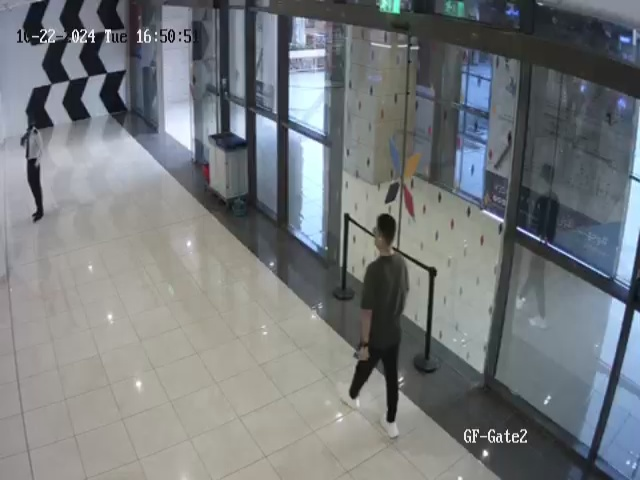employee: (21, 111, 44, 223)
male: (339, 213, 410, 441)
